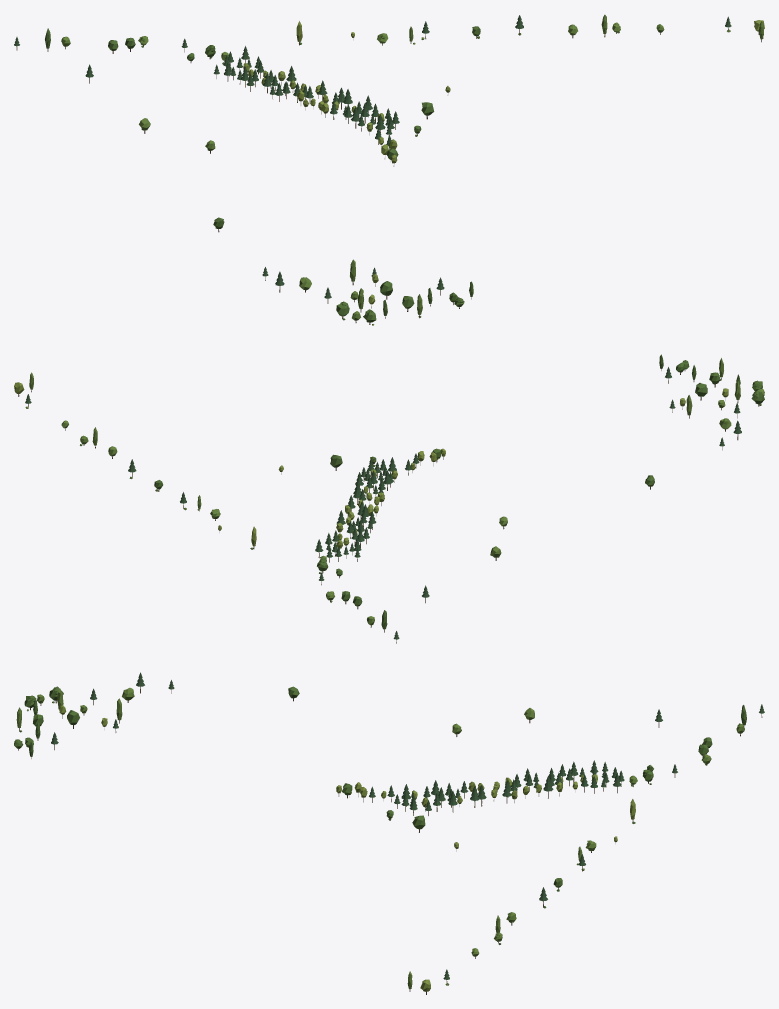
File: Natura_3_0.fbx
The picture shows the model from 3 angles, top to bottom: view 1: azimuth 30°, elevation 25°; view 2: azimuth 150°, elevation 25°; view 3: azimuth 270°, elevation 25°; orthographic projection. The views are drawn at different scales.
Bounding box in the file's own units: 461 × 18.04 × 479.
